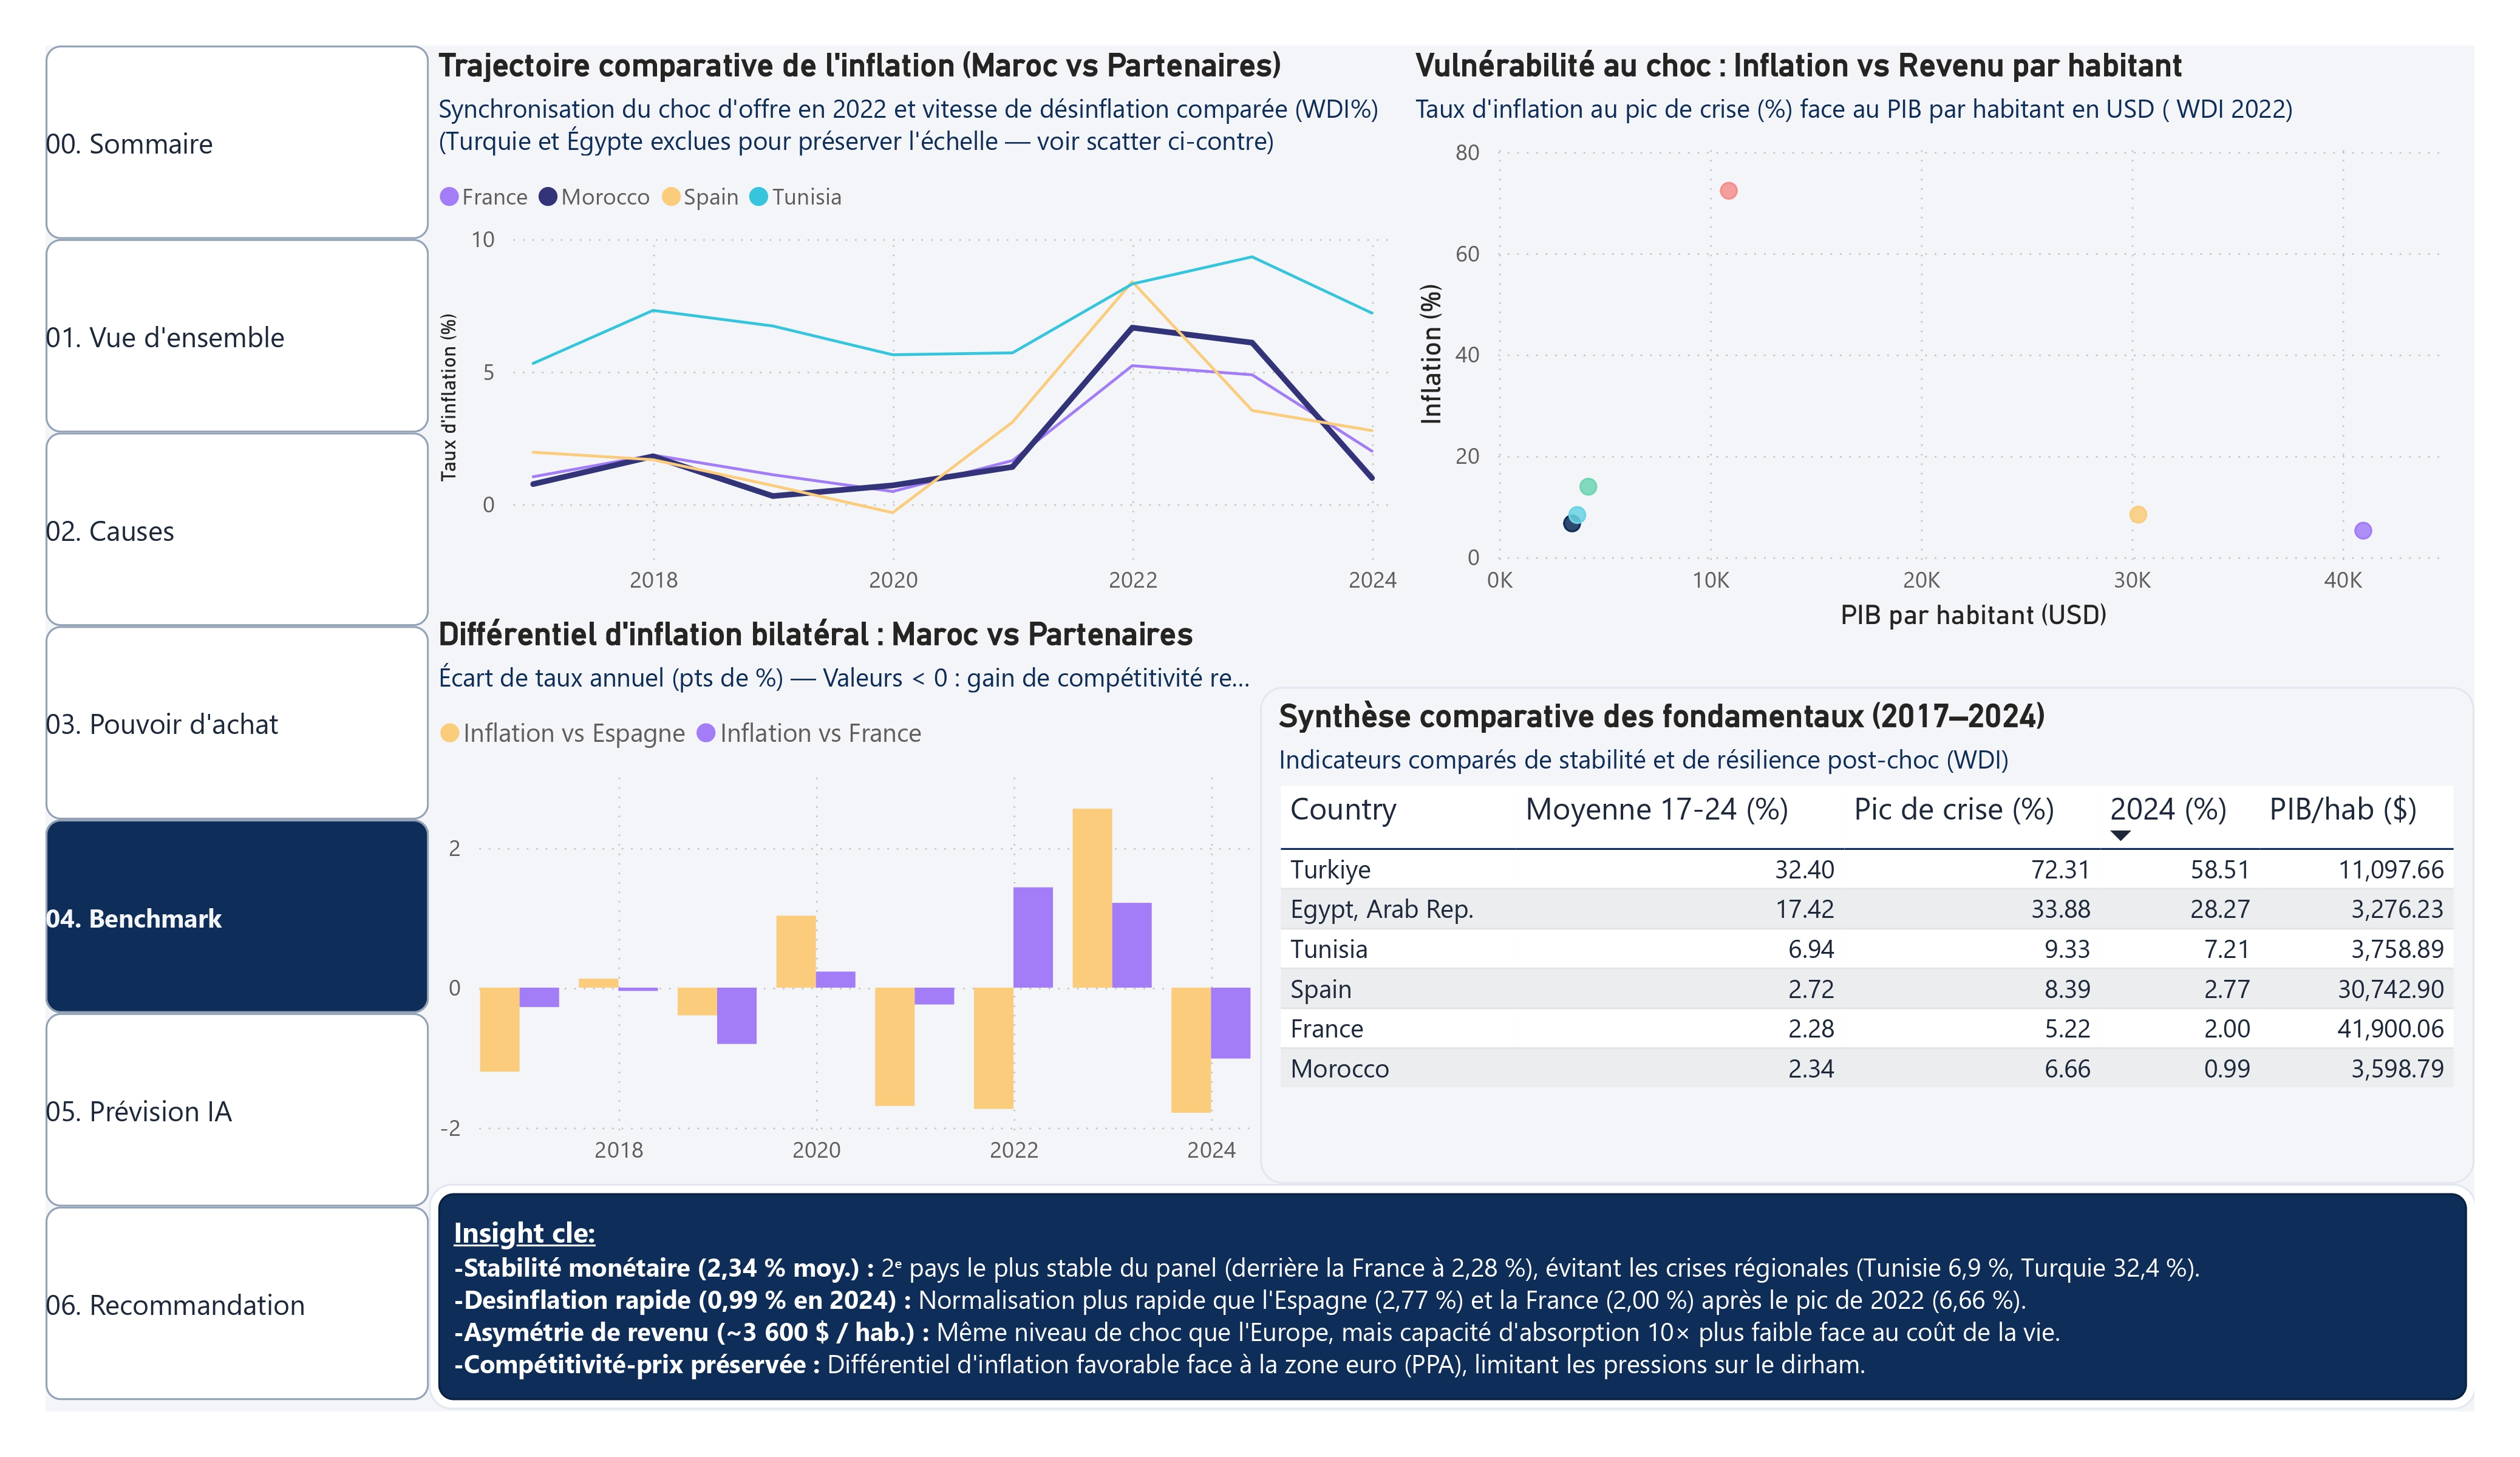

The dashboard page shown, as its layout file describes it:
{"tool":"powerbi","page":{"name":" 04. Benchmark","canvas":[1280,720],"ordinal":4},"visuals":[{"type":"pageNavigator","box":[0,0,201.9,719.2],"z":0},{"type":"lineChart","title":"Trajectoire comparative de l''inflation (Maroc vs Partenaires)","fields":{"Y":["Sum(Dim_WDI_Inflation.Valeur)"],"Series":["Dim_WDI_Inflation.Country"],"Category":["Dim_WDI_Inflation.Annee"]},"box":[201.9,0,515.4,300],"z":1000},{"type":"scatterChart","title":"Vulnérabilité au choc : Inflation vs Revenu par habitant","fields":{"Category":["Dim_WDI_Complet.Country"],"X":["_Mesures.PIB_Par_Habitant"],"Y":["_Mesures.Inflation_WDI"]},"box":[717.3,0,563.5,313.5],"z":2000},{"type":"clusteredColumnChart","title":"Différentiel d''inflation bilatéral : Maroc vs Partenaires","fields":{"Category":["Dim_WDI_Inflation.Annee"],"Y":["_Mesures.Spread_Inflation_vs_Espagne","_Mesures.Spread_Inflation_vs_France"]},"box":[201.7,300,438.3,300],"z":3000},{"type":"tableEx","title":"Synthèse comparative des fondamentaux (2017–2024)","fields":{"Values":["Dim_WDI_Inflation.Country","_Mesures.Inflation_Moyenne_Benchmark","_Mesures.Pic_Inflation_Crise","_Mesures.Inflation_2024","_Mesures.PIB_Par_Habitant"]},"box":[640,338.3,640,261.7],"z":4000},{"type":"shape","box":[201.9,600,1078.8,119.2],"z":5000},{"type":"textbox","box":[209.6,609.6,1063.5,101.9],"z":6000}]}

Visuals, with their boxes on the page's 1280x720 design canvas (x1, y1, x2, y2). These are canvas units, not pixel positions in the 2520x1457 screenshot, which may show the page scaled, cropped or inside an application window:
pageNavigator: [left=0, top=0, right=202, bottom=719]
"Trajectoire comparative de l''inflation (Maroc vs Partenaires)" lineChart: [left=202, top=0, right=717, bottom=300]
"Vulnérabilité au choc : Inflation vs Revenu par habitant" scatterChart: [left=717, top=0, right=1281, bottom=314]
"Différentiel d''inflation bilatéral : Maroc vs Partenaires" clusteredColumnChart: [left=202, top=300, right=640, bottom=600]
"Synthèse comparative des fondamentaux (2017–2024)" tableEx: [left=640, top=338, right=1280, bottom=600]
shape: [left=202, top=600, right=1281, bottom=719]
textbox: [left=210, top=610, right=1273, bottom=712]
